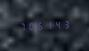four: (54, 19, 62, 30)
one: (45, 19, 53, 30)
seven: (17, 21, 25, 31)
six: (36, 20, 44, 31)
three: (63, 19, 71, 29)
zero: (26, 20, 34, 31)
